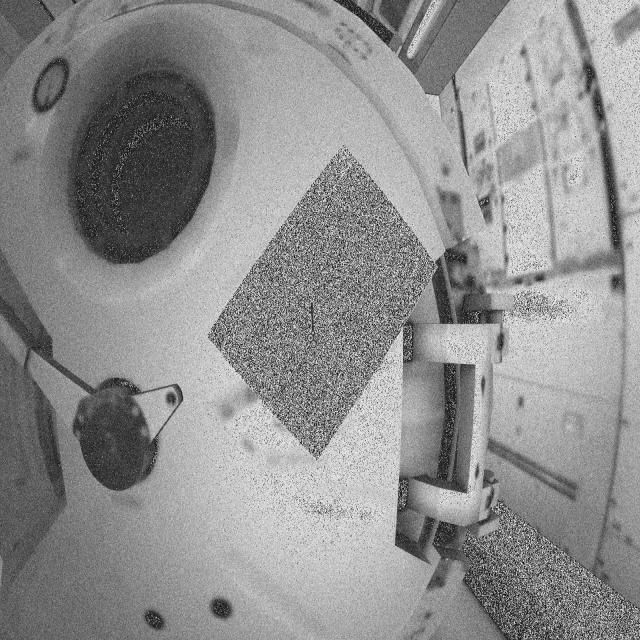key: (296, 297, 328, 358)
